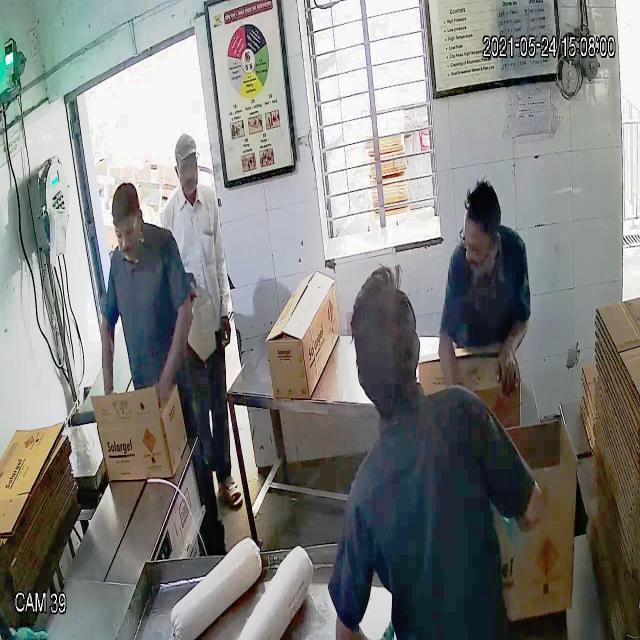glasses: (111, 216, 139, 248)
no-glass: (175, 155, 202, 176)
